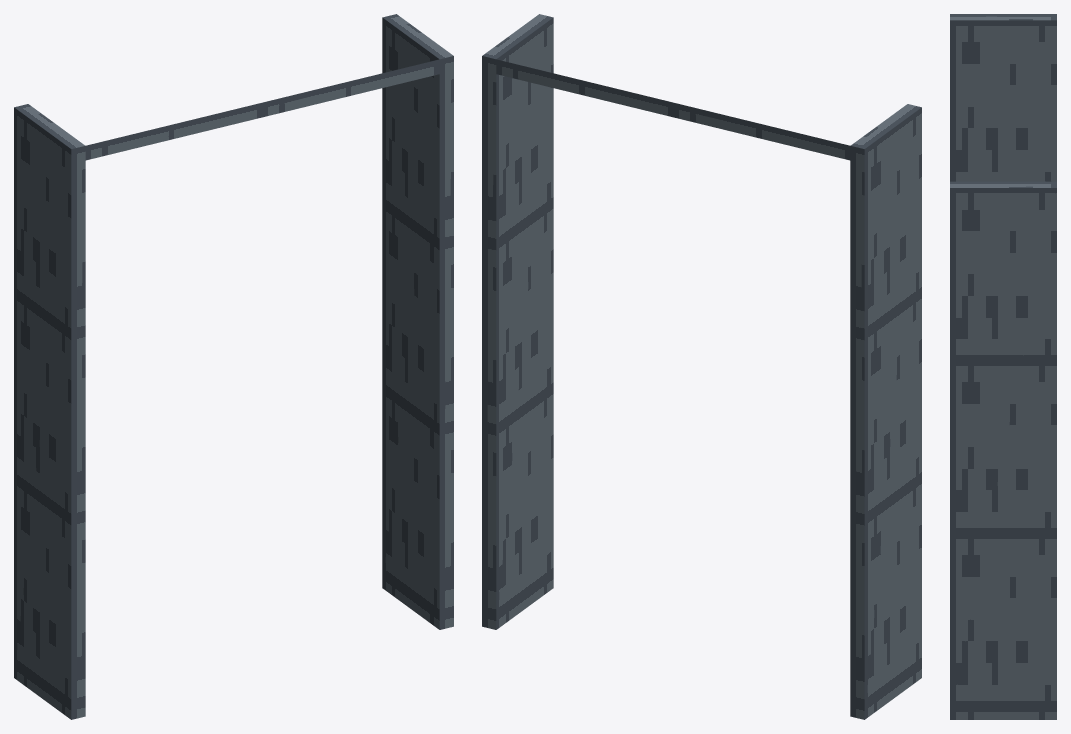
Rendered from door_frame.glb.
The picture shows the model from 3 angles, left to right: view 1: azimuth 30°, elevation 25°; view 2: azimuth 150°, elevation 25°; view 3: azimuth 270°, elevation 25°; orthographic projection. The views are drawn at different scales.
Visible parts, largest first — view 1: door_frame mesh; view 2: door_frame mesh; view 3: door_frame mesh.
Part boxes in pixels (x1,y1,x2,y2): door_frame mesh: (14,14,453,719); door_frame mesh: (482,14,921,719); door_frame mesh: (950,14,1056,719).
Bounding box in the file's own units: 2.16 × 3.08 × 0.56.
Materials: 1 (1 with a texture image).
